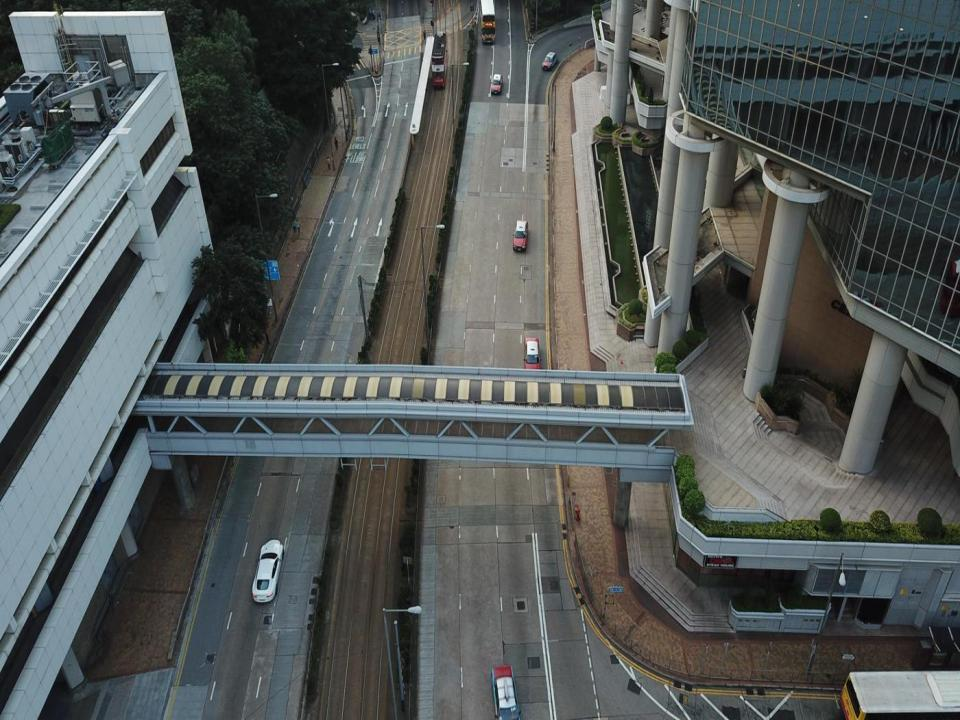bus: (840, 672, 957, 719), (431, 32, 447, 90), (479, 0, 496, 45)
car: (252, 539, 284, 603), (492, 665, 522, 719), (524, 338, 542, 373), (511, 220, 528, 250), (541, 52, 558, 70), (491, 73, 503, 94)
